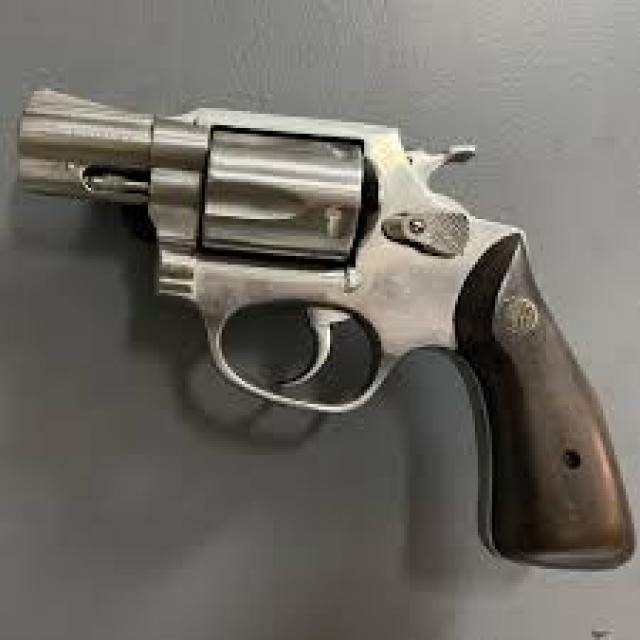revolver: (0, 48, 640, 572)
